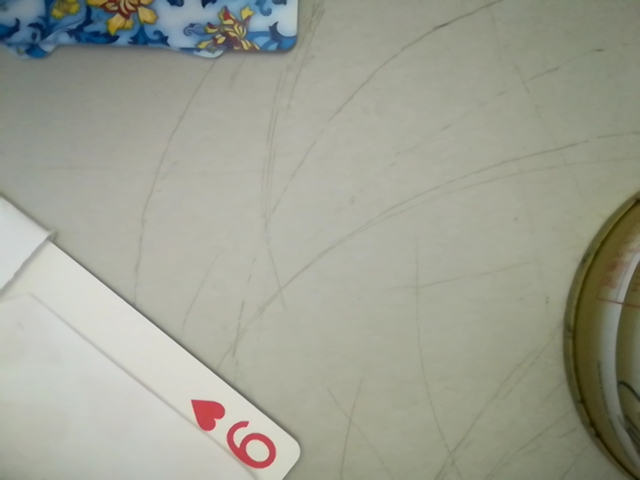hx 9: (195, 395, 285, 473)
